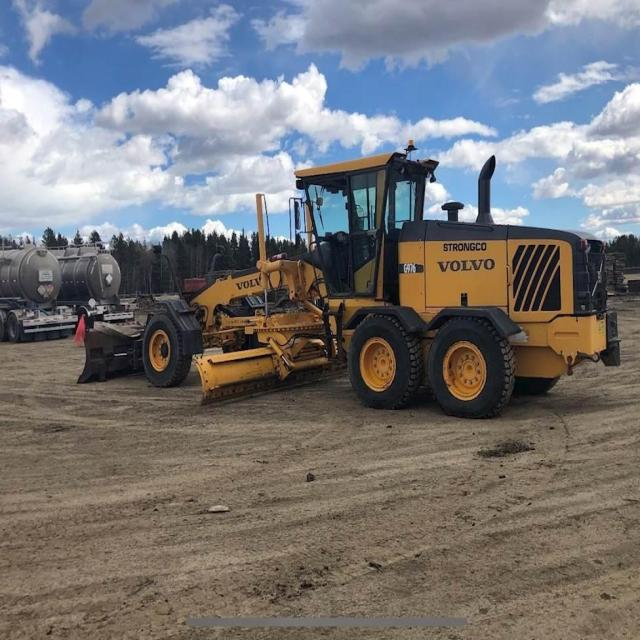buldozerpayloadergrader: (141, 139, 615, 436)
